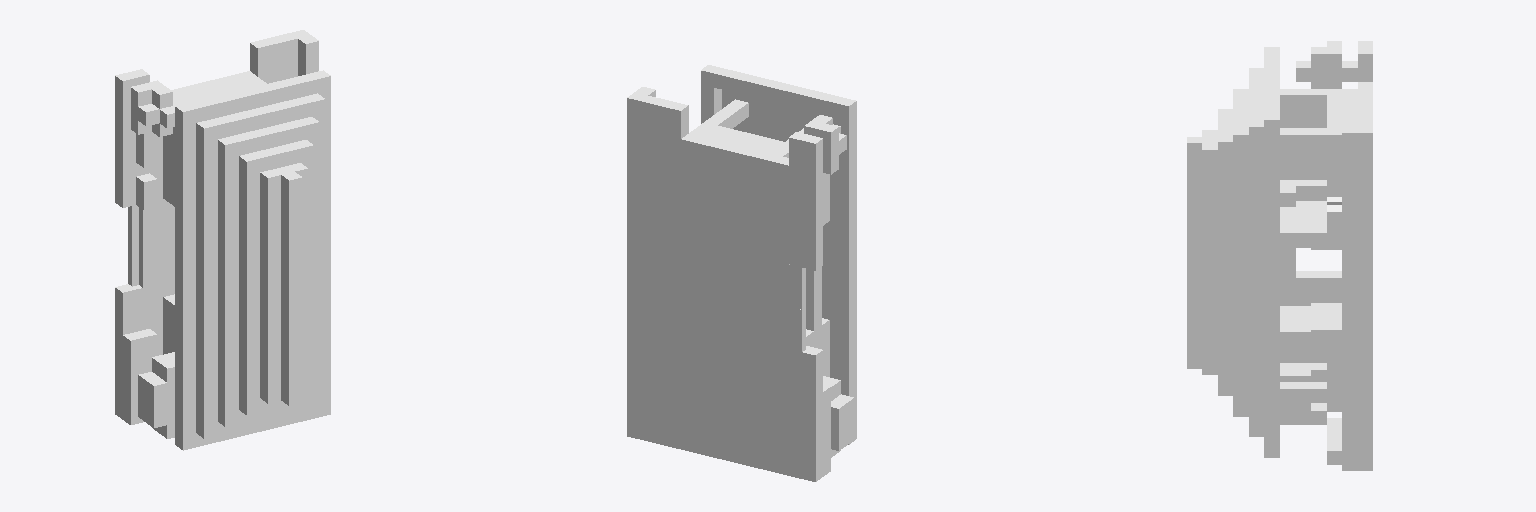
The model's file is mimori_nagayamon.obj.
3 renders of one model, left to right at view 1: azimuth 30°, elevation 25°; view 2: azimuth 150°, elevation 25°; view 3: azimuth 270°, elevation 25°, orthographic.
Parts seen in each view (by area): view 1: Object.10, Object.7, Object.8, Object.9, Object.11, Object.3, Object.4; view 2: Object.7, Object.10, Object.8, Object.4, Object.9, Object.11; view 3: Object.7, Object.4, Object.8, Object.11, Object.3, Object.10, Object.9, Object.5.
Boxes of the visible parts, x1=… form: Object.10: x1=115, y1=118, x2=259, y2=386; Object.7: x1=253, y1=118, x2=330, y2=389; Object.8: x1=183, y1=30, x2=330, y2=152; Object.9: x1=115, y1=340, x2=259, y2=450; Object.11: x1=115, y1=69, x2=251, y2=158; Object.3: x1=281, y1=172, x2=302, y2=391; Object.4: x1=237, y1=344, x2=330, y2=436; Object.7: x1=627, y1=113, x2=800, y2=394; Object.10: x1=748, y1=143, x2=856, y2=411; Object.8: x1=627, y1=65, x2=802, y2=169; Object.4: x1=627, y1=366, x2=747, y2=465; Object.9: x1=748, y1=362, x2=856, y2=481; Object.11: x1=748, y1=88, x2=856, y2=185; Object.7: x1=1202, y1=116, x2=1372, y2=400; Object.4: x1=1202, y1=361, x2=1372, y2=470; Object.8: x1=1233, y1=74, x2=1372, y2=174; Object.11: x1=1233, y1=41, x2=1372, y2=108; Object.3: x1=1187, y1=137, x2=1201, y2=354; Object.10: x1=1218, y1=109, x2=1326, y2=200; Object.9: x1=1280, y1=346, x2=1341, y2=411; Object.5: x1=1311, y1=248, x2=1341, y2=331.
Bounding box in the file's own units: 14000 × 24000 × 12000.